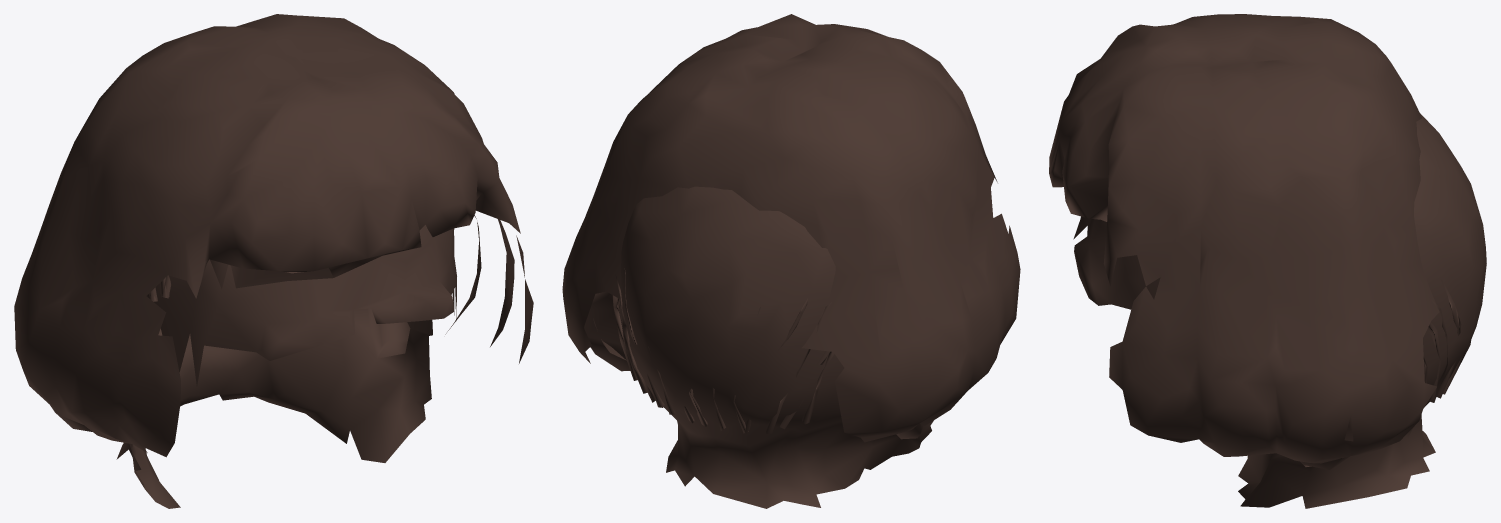
File: blunt-bob.glb
The picture shows the model from 3 angles, left to right: view 1: azimuth 30°, elevation 25°; view 2: azimuth 150°, elevation 25°; view 3: azimuth 270°, elevation 25°; orthographic projection. The views are drawn at different scales.
Visible parts, largest first — view 1: Hair, HairScalp; view 2: Hair, HairScalp, HairPulledRootStrands; view 3: Hair, HairScalp, HairPulledRootStrands.
Part boxes in pixels (box(x1,y1,x2,y2)): Hair: box(14, 14, 533, 457); HairScalp: box(50, 225, 456, 508); Hair: box(562, 14, 1020, 442); HairScalp: box(583, 186, 933, 508); HairPulledRootStrands: box(612, 268, 834, 433); Hair: box(1049, 14, 1439, 463); HairScalp: box(1073, 113, 1486, 508); HairPulledRootStrands: box(1423, 276, 1474, 402).
Size of the model in its own units: 0.5106 by 0.4851 by 0.4546.
